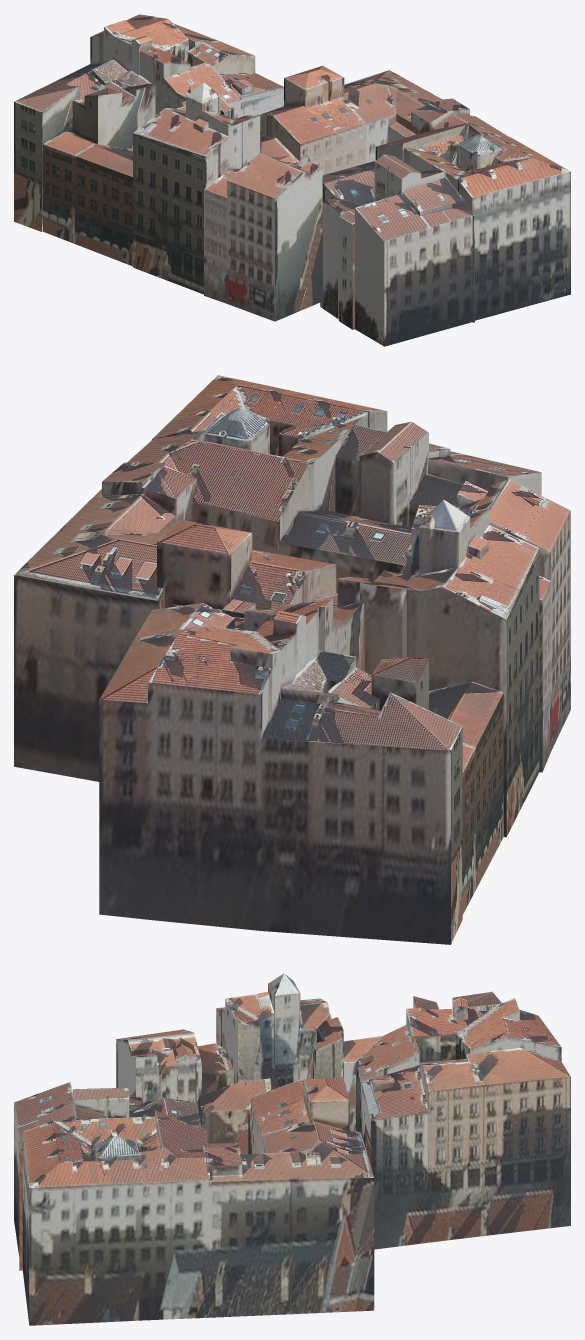
File: LYON_1ER_00019.dae
3 renders of one model, top to bottom at view 1: azimuth 30°, elevation 25°; view 2: azimuth 150°, elevation 25°; view 3: azimuth 270°, elevation 25°, orthographic. The views are drawn at different scales.
Bounding box in the file's own units: 70.95 × 87.12 × 36.94.
2 materials, 2 textured.
